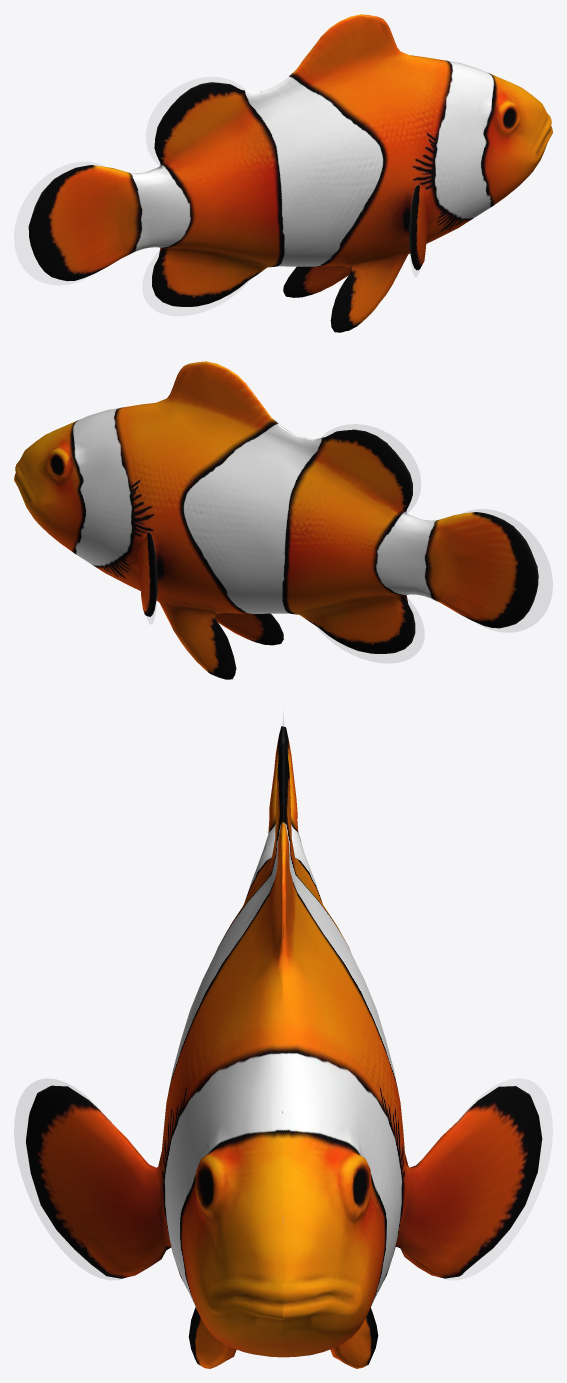
The model's file is clownfish.glb.
3 views of the same model, one above another, from view 1: azimuth 30°, elevation 25°; view 2: azimuth 150°, elevation 25°; view 3: azimuth 270°, elevation 25° (orthographic). The views are drawn at different scales.
Visible parts, largest first — view 1: clownfish; view 2: clownfish; view 3: clownfish.
Part boxes in pixels (x1,y1,x2,y2): clownfish: [14, 14, 552, 332]; clownfish: [14, 361, 552, 679]; clownfish: [14, 713, 552, 1368].
Bounding box in the file's own units: 1 × 0.5194 × 0.4582.
Materials: 2 (2 with a texture image).
